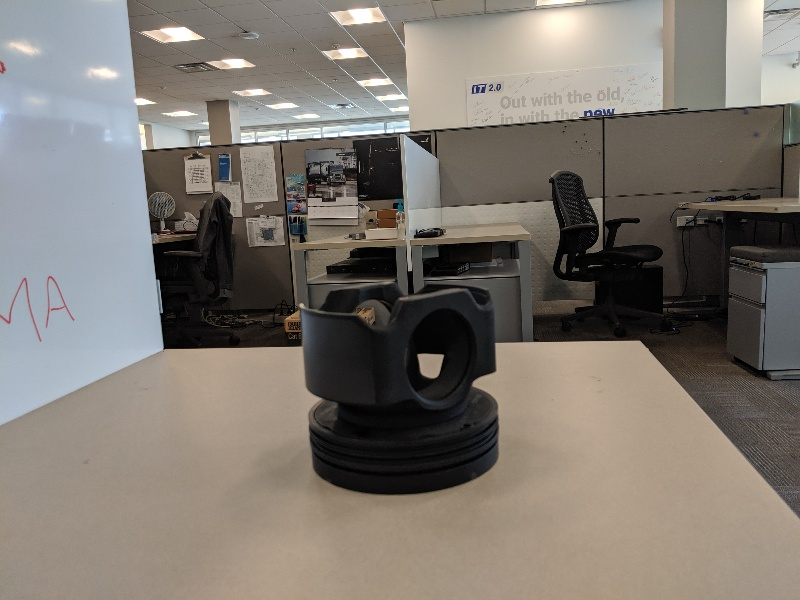piston: (283, 275, 516, 498)
